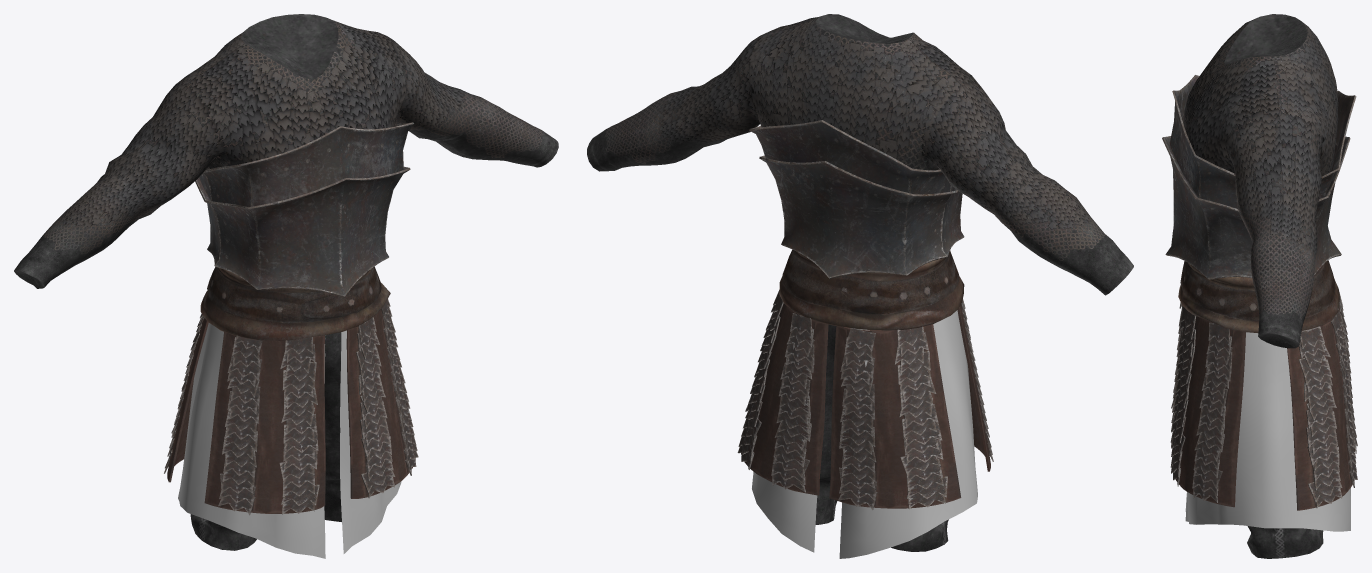
File: sk_dg_uruk_chest_med_d.fbx
The picture shows the model from 3 angles, left to right: view 1: azimuth 30°, elevation 25°; view 2: azimuth 150°, elevation 25°; view 3: azimuth 270°, elevation 25°; orthographic projection. The views are drawn at different scales.
Parts seen in each view (by area): view 1: sk_dg_uruk_chest_med_d.1, sk_dg_uruk_chest_med_d.skirt.1, sk_dg_uruk_chest_med_d.2, sk_dg_uruk_chest_med_d.skirt.0, sk_dg_uruk_chest_med_d.0; view 2: sk_dg_uruk_chest_med_d.1, sk_dg_uruk_chest_med_d.skirt.1, sk_dg_uruk_chest_med_d.2, sk_dg_uruk_chest_med_d.skirt.0, sk_dg_uruk_chest_med_d.0; view 3: sk_dg_uruk_chest_med_d.1, sk_dg_uruk_chest_med_d.skirt.1, sk_dg_uruk_chest_med_d.skirt.0, sk_dg_uruk_chest_med_d.2, sk_dg_uruk_chest_med_d.0.
Part boxes in pixels (bbox=[...]): sk_dg_uruk_chest_med_d.1: bbox=[14, 14, 558, 341]; sk_dg_uruk_chest_med_d.skirt.1: bbox=[164, 299, 418, 515]; sk_dg_uruk_chest_med_d.2: bbox=[195, 122, 413, 296]; sk_dg_uruk_chest_med_d.skirt.0: bbox=[178, 323, 401, 558]; sk_dg_uruk_chest_med_d.0: bbox=[190, 332, 341, 550]; sk_dg_uruk_chest_med_d.1: bbox=[587, 14, 1133, 330]; sk_dg_uruk_chest_med_d.skirt.1: bbox=[737, 289, 993, 509]; sk_dg_uruk_chest_med_d.2: bbox=[749, 120, 964, 278]; sk_dg_uruk_chest_med_d.skirt.0: bbox=[752, 310, 977, 558]; sk_dg_uruk_chest_med_d.0: bbox=[815, 324, 948, 551]; sk_dg_uruk_chest_med_d.1: bbox=[1178, 14, 1339, 348]; sk_dg_uruk_chest_med_d.skirt.1: bbox=[1170, 291, 1357, 510]; sk_dg_uruk_chest_med_d.skirt.0: bbox=[1185, 332, 1350, 531]; sk_dg_uruk_chest_med_d.2: bbox=[1162, 75, 1356, 279]; sk_dg_uruk_chest_med_d.0: bbox=[1247, 526, 1323, 558].
Bounding box in the file's own units: 1.35 × 0.4351 × 1.2.
